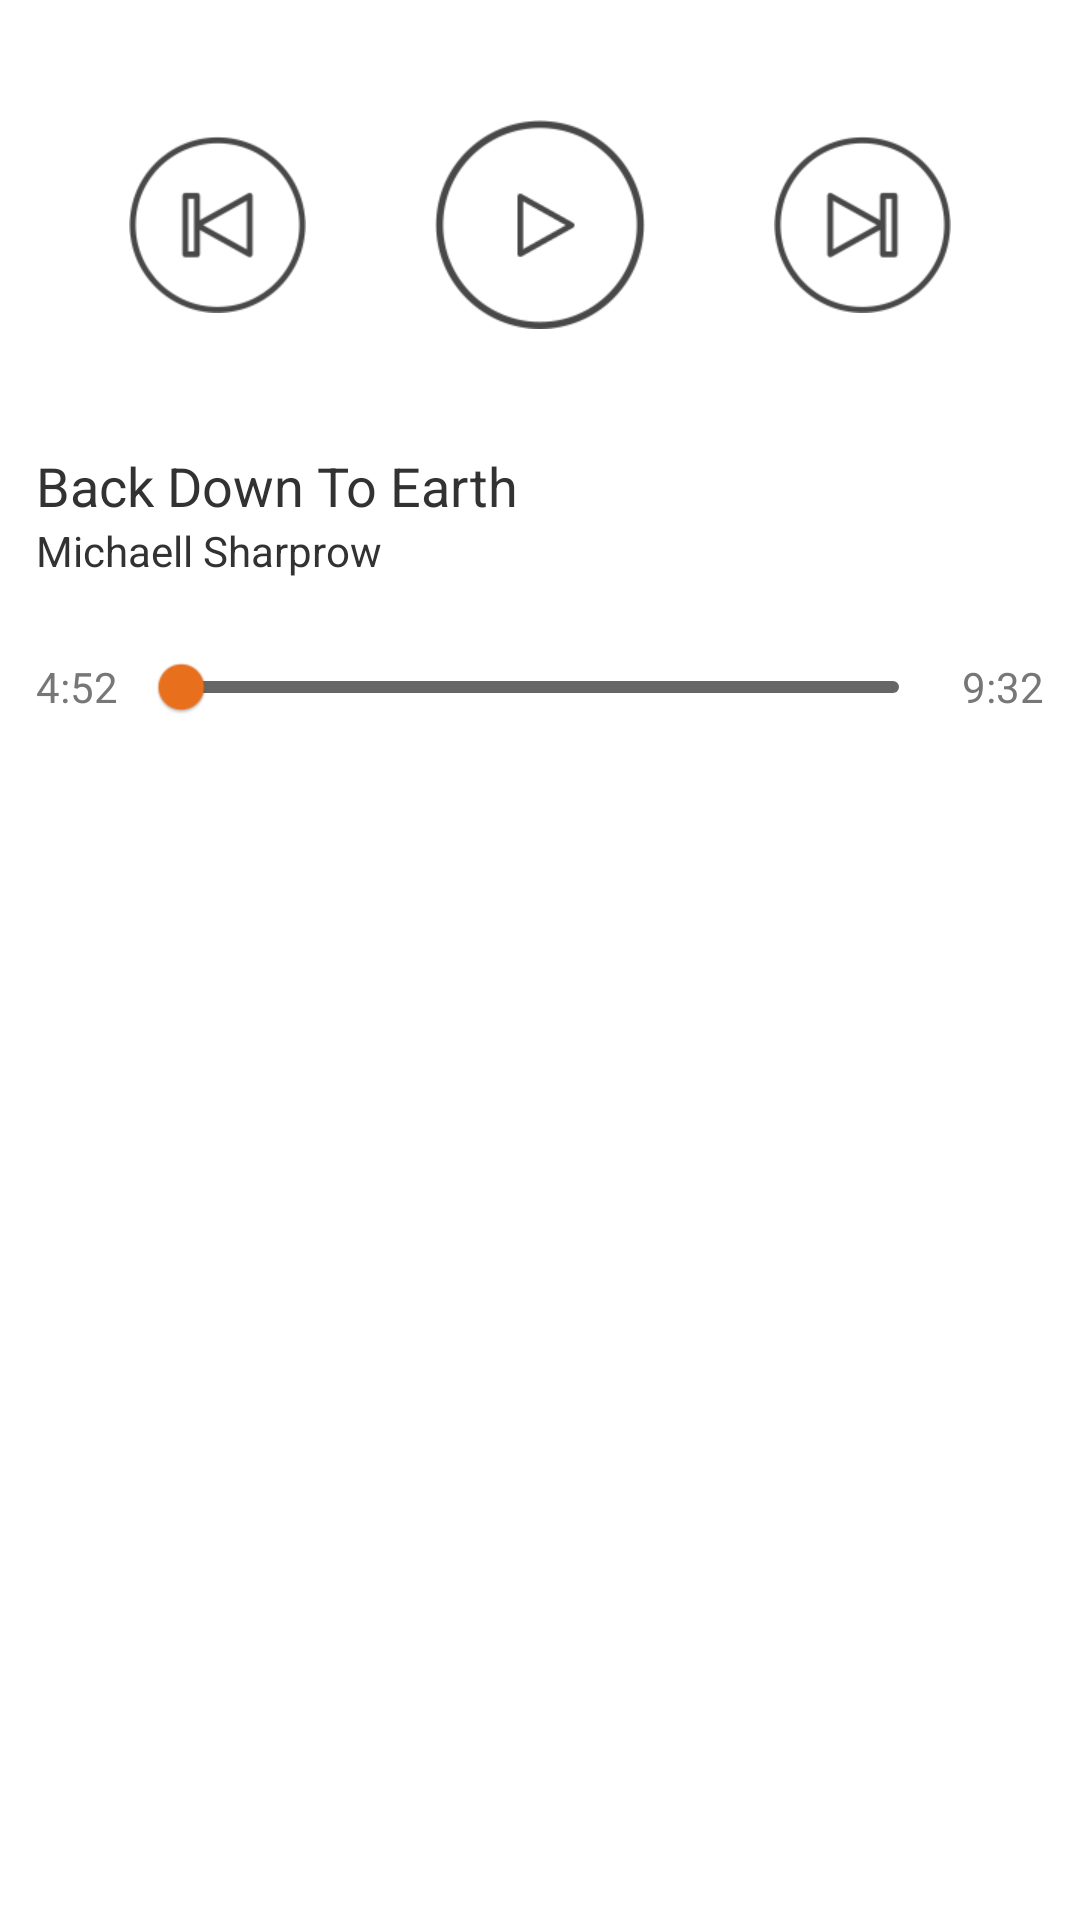

Where icons sit on this 1080px×1920px app screen, as (x1, y1, x2, y2):
next: (774, 137, 951, 313)
play: (435, 120, 645, 329)
prev: (129, 137, 306, 313)
